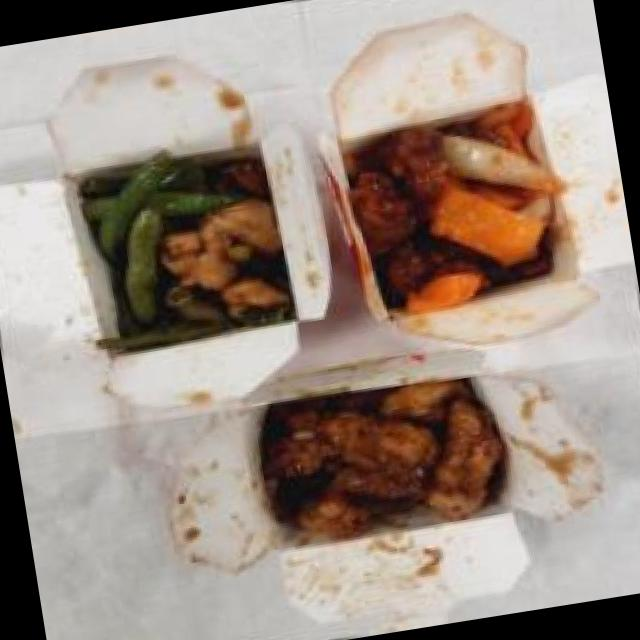Beijing Beef: (330, 92, 579, 328)
String Bean Chicken Breast: (64, 130, 304, 360)
The Original Orange Chicken: (254, 364, 513, 554)
